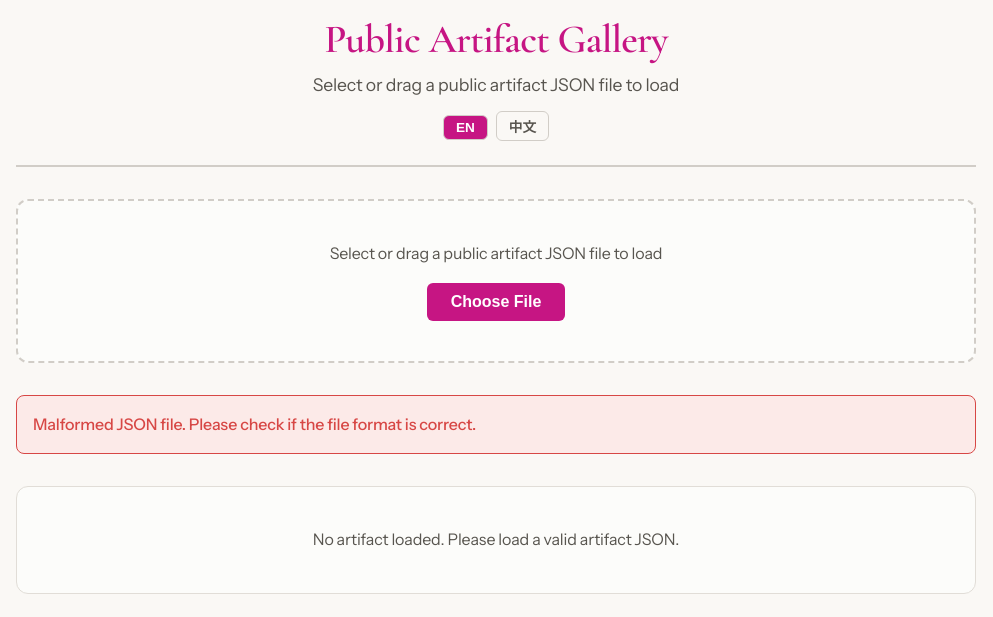
Test: GalleryApp shell › translates an existing import error when the interface language changes
This screenshot has width=993, height=617.
Click the button "中文" at (522, 126), box [496, 111, 549, 141]
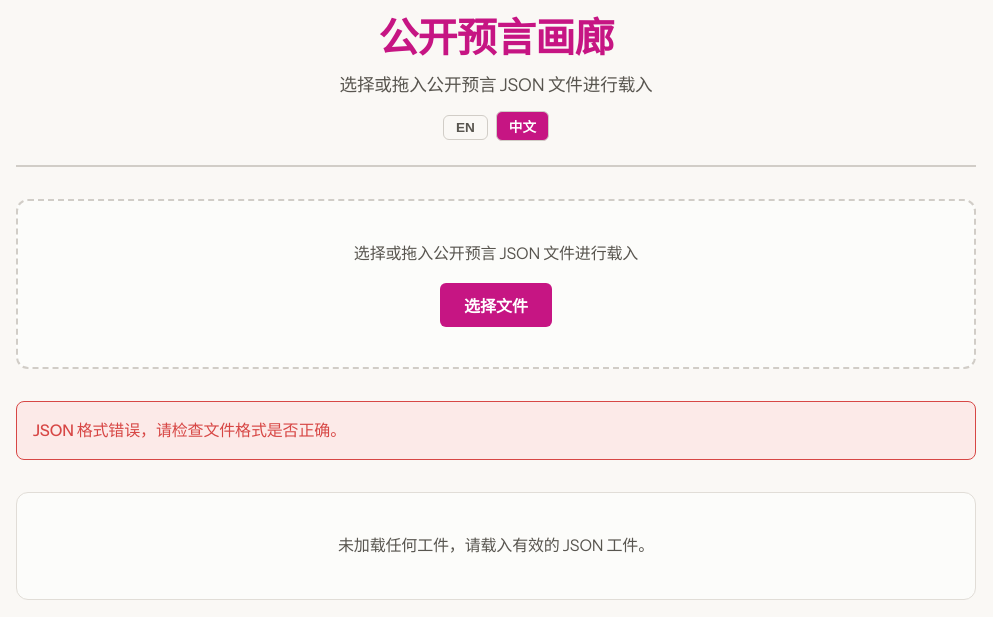
Now the message "Malformed JSON file. Please check if the file format is correct." no longer shows "Malformed JSON file. Please check if the file format is correct."
